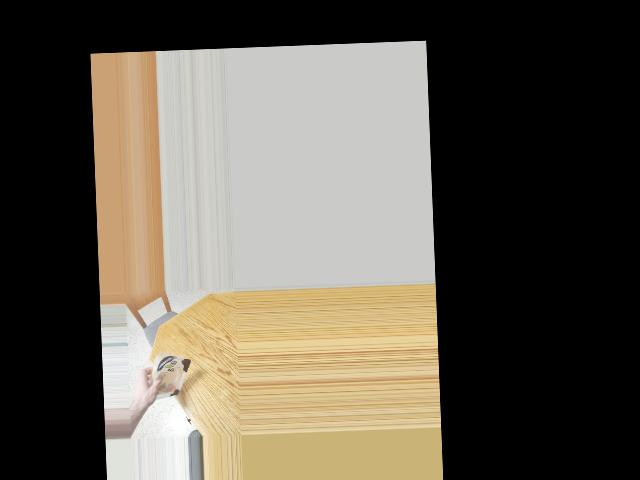cheese: (151, 354, 188, 404)
